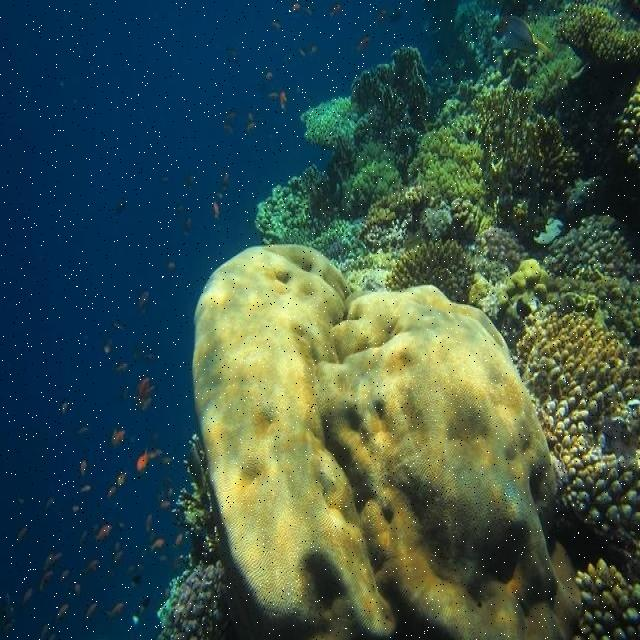reefs: (193, 245, 583, 638), (255, 46, 497, 271), (513, 303, 639, 568), (387, 241, 473, 305), (544, 228, 639, 281)
